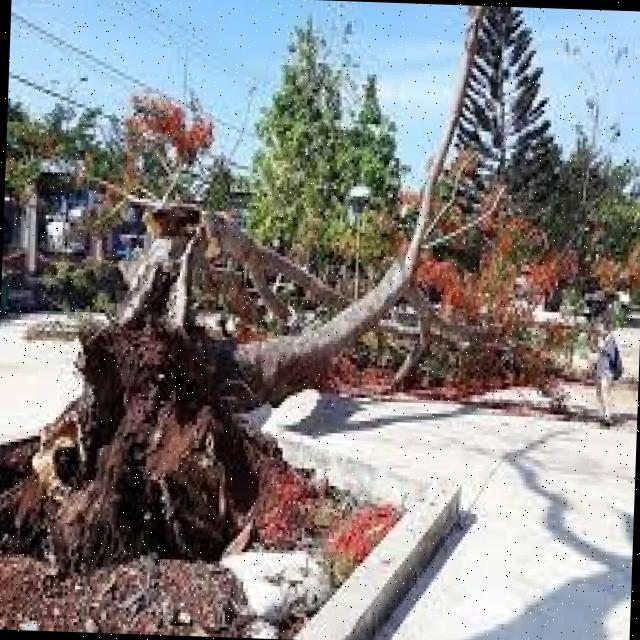fallen_object: (67, 162, 640, 543)
